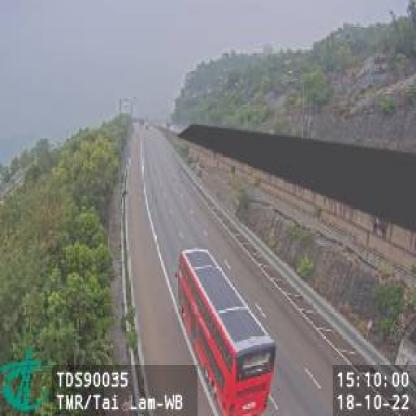Bus: (176, 245, 276, 415)
